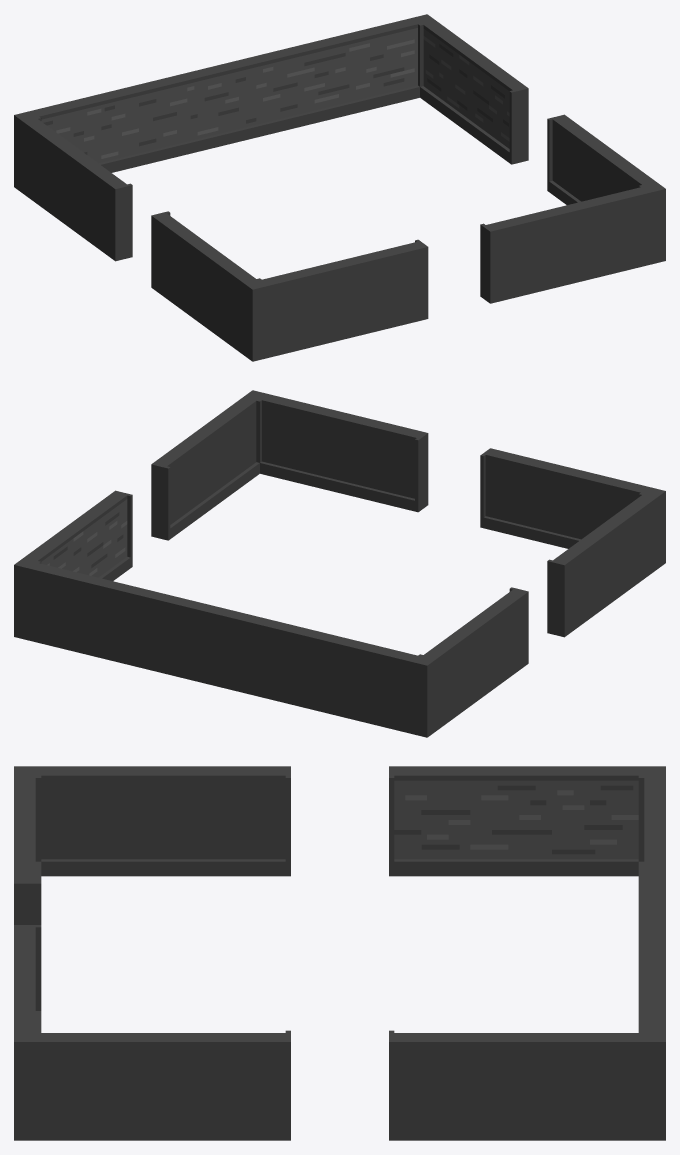
File: 3Doors.obj
3 views of the same model, one above another, from view 1: azimuth 30°, elevation 25°; view 2: azimuth 150°, elevation 25°; view 3: azimuth 270°, elevation 25° (orthographic). The views are drawn at different scales.
Size of the model in its own units: 12 by 2 by 12.
1 material, 1 textured.
